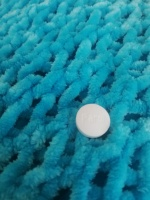Parol: (74, 103, 112, 140)
